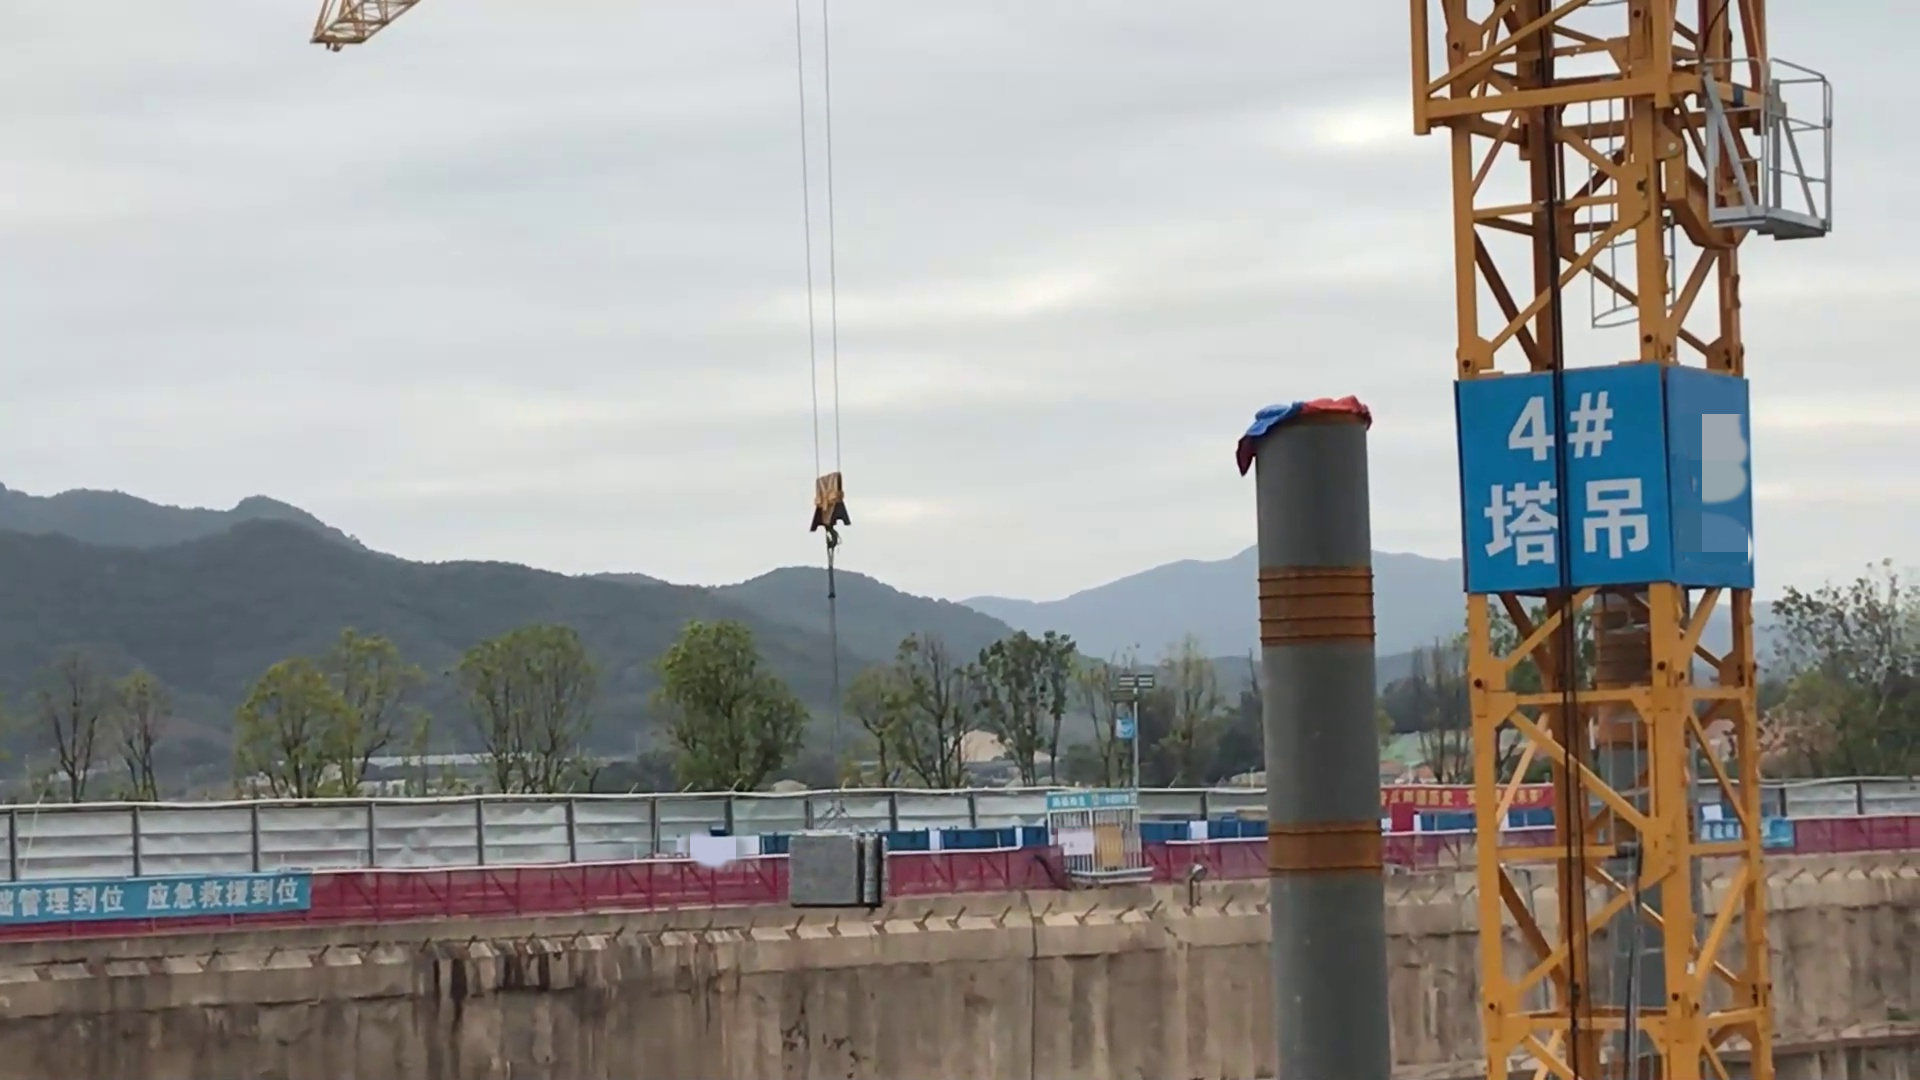hook: (800, 469, 858, 549)
slogan: (4, 876, 314, 922)
